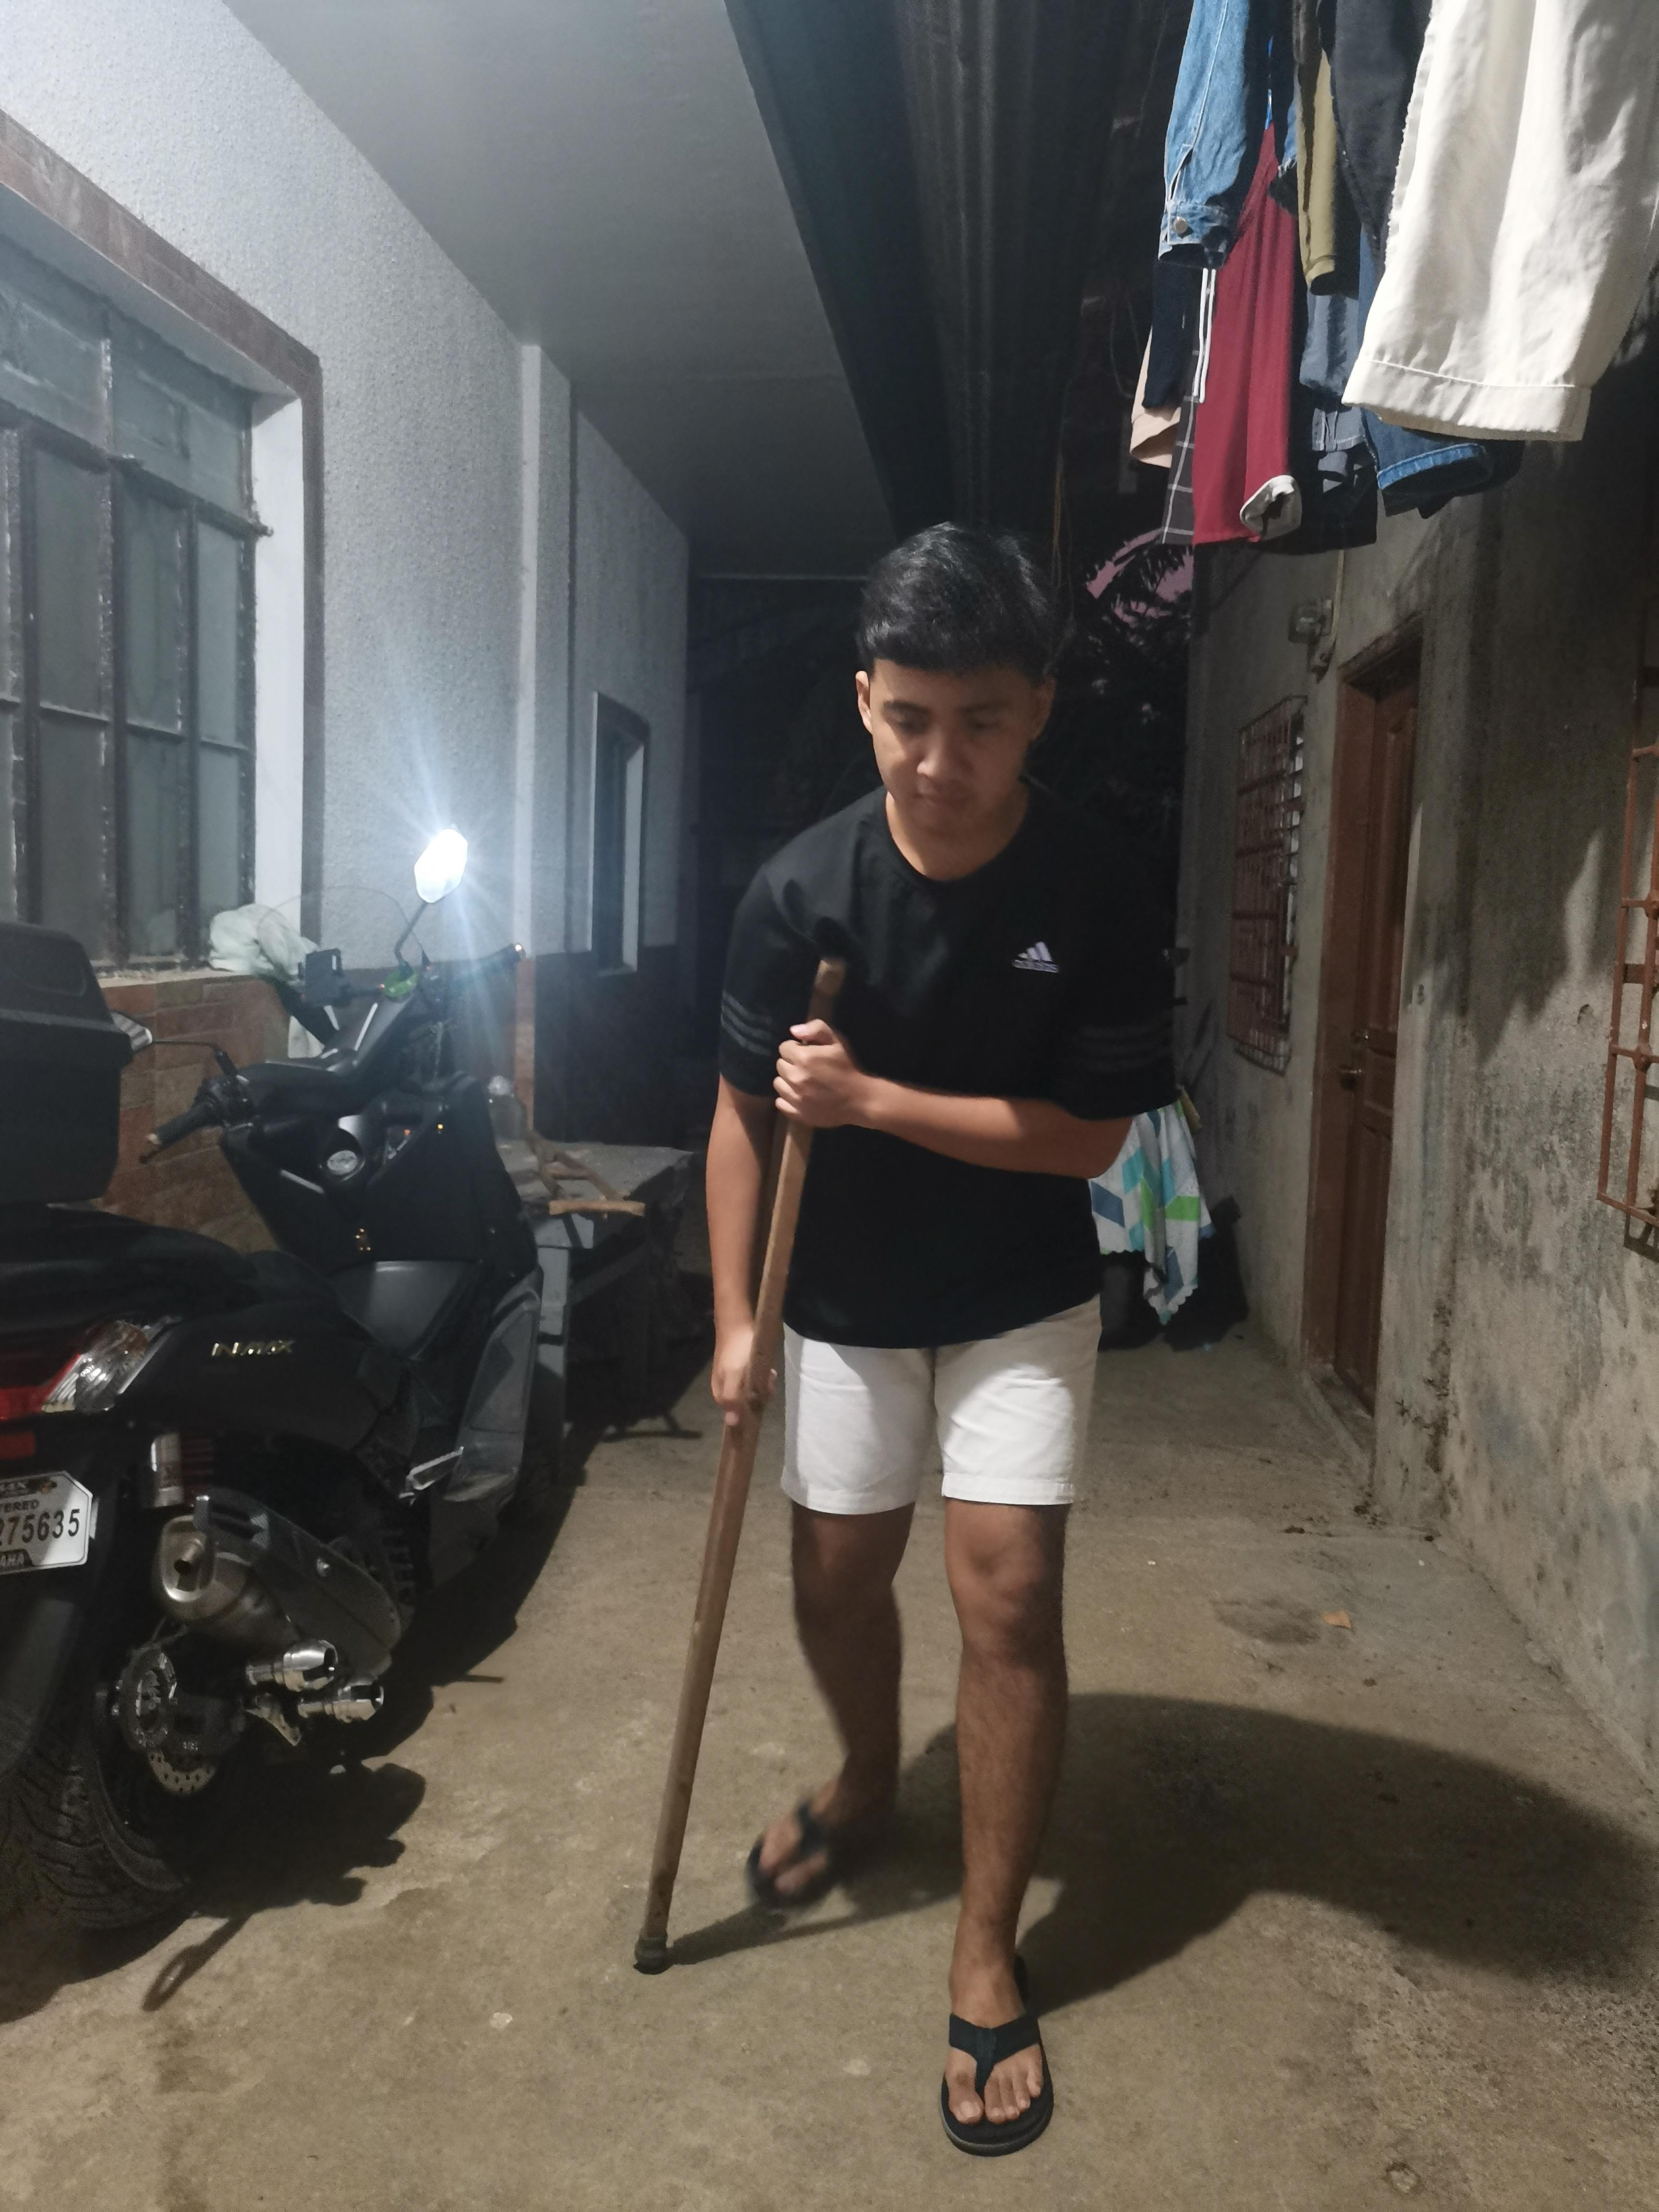crutches: (626, 510, 1162, 2170)
